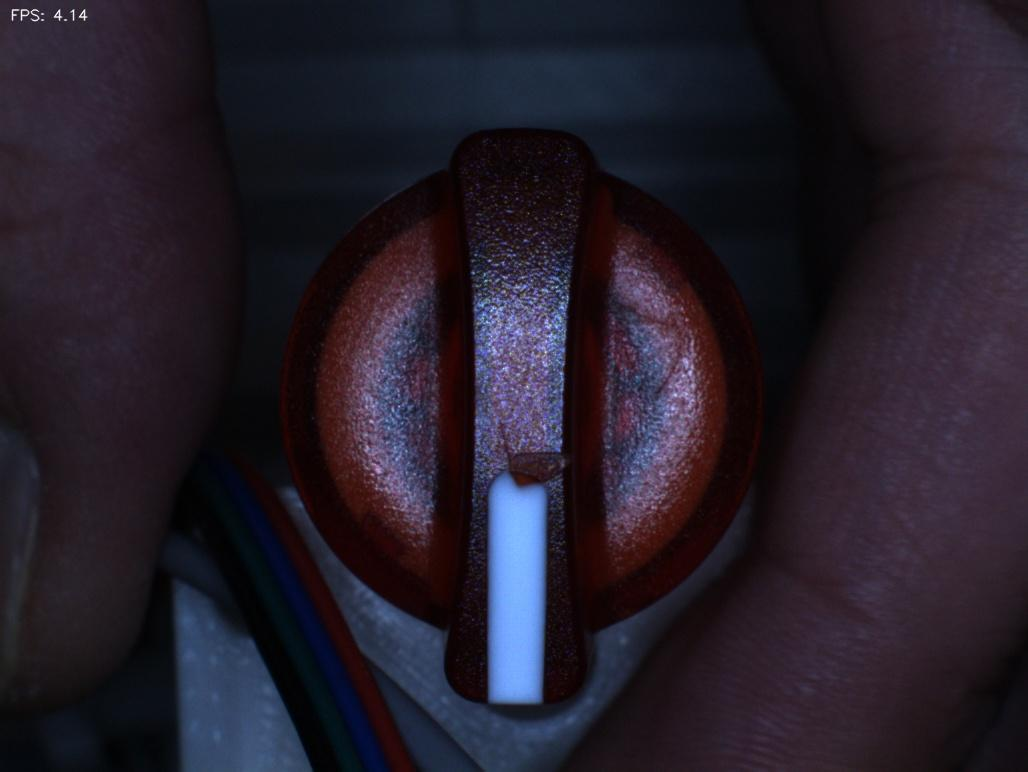Choc: (498, 421, 587, 503)
